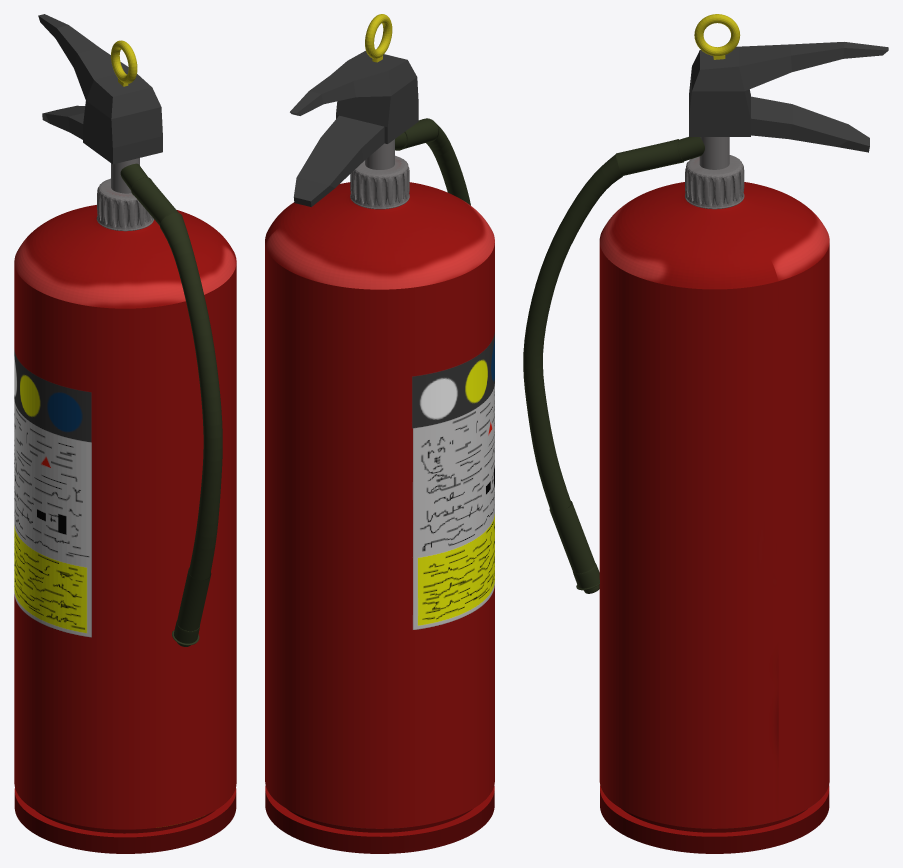
Rendered from Fire_syoukaki_ver2.fbx.
3 renders of one model, left to right at view 1: azimuth 30°, elevation 25°; view 2: azimuth 150°, elevation 25°; view 3: azimuth 270°, elevation 25°, orthographic. The views are drawn at different scales.
Parts seen in each view (by area): view 1: あかえだねおち, Cube, House, あかえだねおちnozle, Torus; view 2: あかえだねおち, Cube, House, Torus; view 3: あかえだねおち, Cube, House, あかえだねおちnozle, Torus.
Boxes of the visible parts, box(x1,y1,x2,y2) form: あかえだねおち: box(14, 158, 236, 853); Cube: box(38, 14, 162, 164); House: box(160, 213, 222, 580); あかえだねおちnozle: box(172, 568, 211, 646); Torus: box(111, 40, 137, 86); あかえだねおち: box(265, 118, 494, 853); Cube: box(290, 50, 418, 206); House: box(426, 123, 470, 205); Torus: box(365, 14, 392, 62); あかえだねおち: box(599, 137, 829, 853); Cube: box(689, 42, 888, 152); House: box(523, 154, 622, 512); あかえだねおちnozle: box(549, 501, 599, 593); Torus: box(694, 14, 740, 59).
Bounding box in the file's own units: 199 × 755 × 316.
